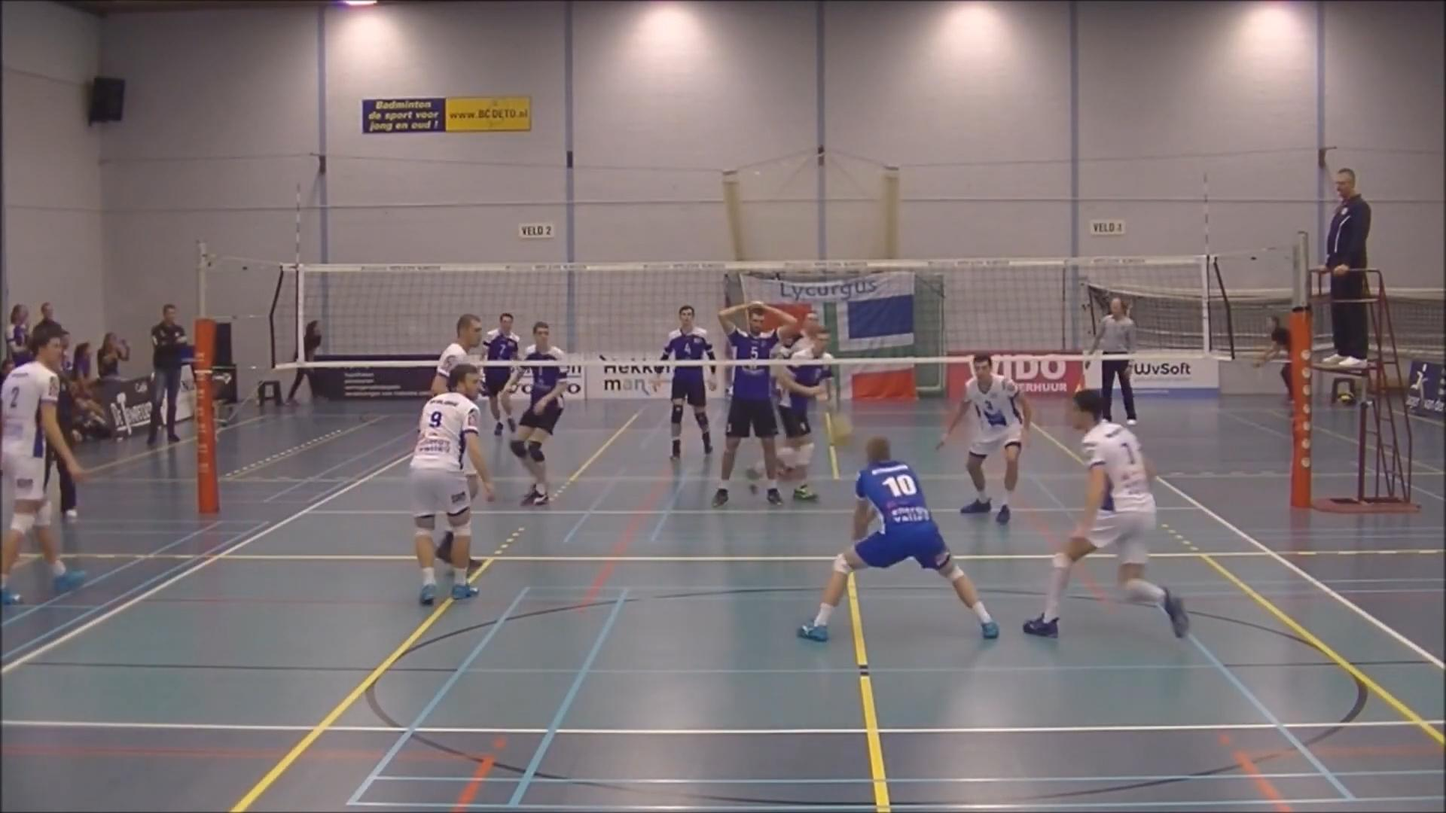ricezione: (778, 428, 997, 648)
